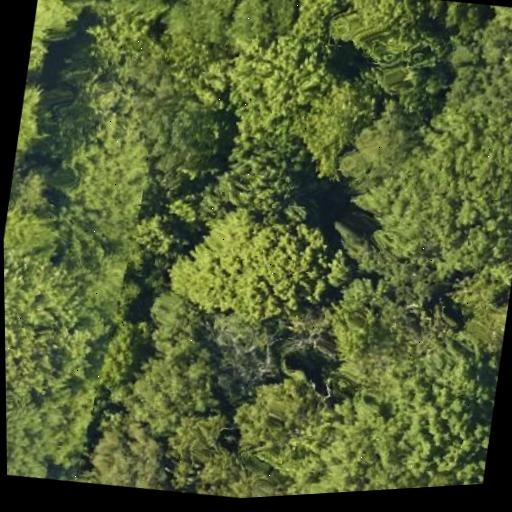tree-top: (212, 362, 415, 500), (367, 97, 512, 274), (200, 31, 372, 178), (170, 183, 333, 338), (323, 266, 478, 407), (4, 249, 105, 411), (114, 304, 221, 438), (54, 110, 159, 234), (359, 27, 462, 127), (82, 406, 189, 497), (132, 81, 211, 203), (211, 131, 314, 220), (397, 400, 494, 489), (437, 26, 512, 126), (6, 385, 78, 484), (81, 14, 161, 91), (316, 0, 420, 56), (25, 0, 86, 85), (220, 0, 303, 61), (92, 308, 148, 396), (3, 189, 63, 266), (12, 74, 58, 172), (131, 205, 186, 262), (424, 0, 490, 37), (482, 3, 512, 48), (128, 0, 190, 14)
